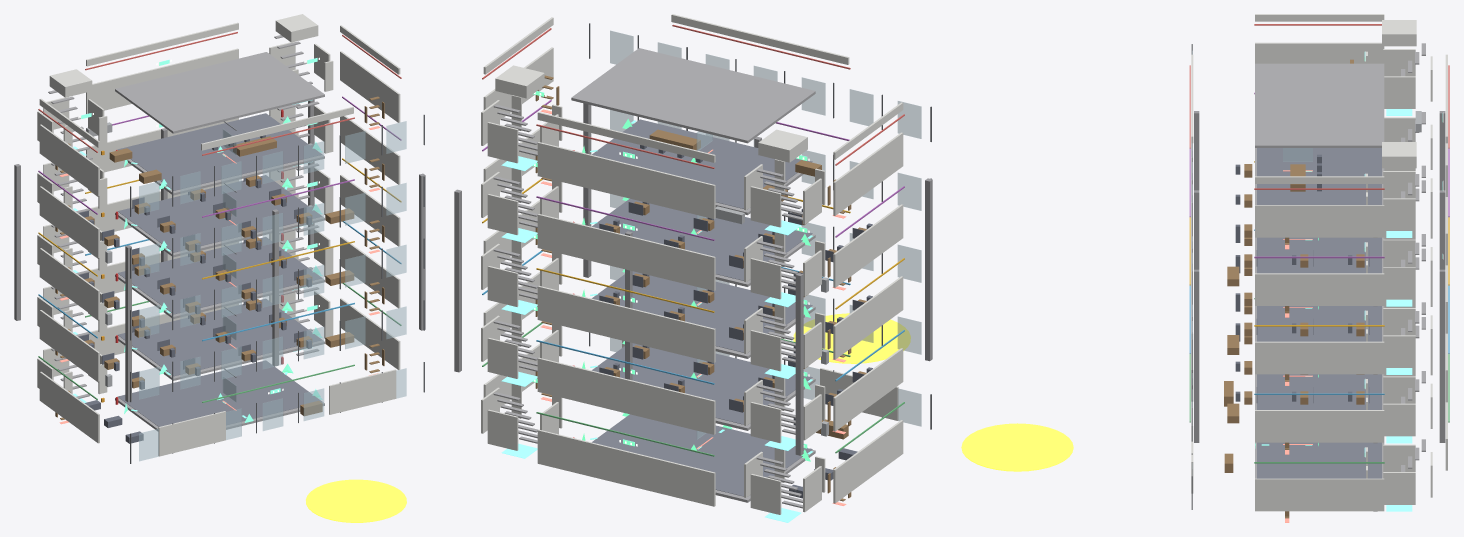
File: OfficeBuilding_MAP.glb
The picture shows the model from 3 angles, left to right: view 1: azimuth 30°, elevation 25°; view 2: azimuth 150°, elevation 25°; view 3: azimuth 270°, elevation 25°; orthographic projection. The views are drawn at different scales.
Parts seen in each view (by area): view 1: Struct_Slabs, Walls_F1, Walls_F5, Walls_F4, Walls_F3, Walls_F2, Design_F5, Design_F4, Design_F2, Design_F3, Design_Roof, Struct_Columns (+7 smaller); view 2: Struct_Slabs, Walls_F1, Walls_F5, Walls_F4, Walls_F3, Walls_F2, Design_Roof, Struct_Columns, Design_F5, Design_F4, Design_F2, Design_F3 (+7 smaller); view 3: Struct_Slabs, Walls_F5, Walls_F4, Walls_F1, Walls_F3, Walls_F2, Design_Roof, EVAC_AssemblyPoint, Struct_Columns, Furn_F4, Furn_F2, Furn_F3 (+6 smaller).
Boxes of the visible parts, x1=… form: Struct_Slabs: x1=115, y1=52, x2=324, y2=431; Walls_F1: x1=37, y1=289, x2=400, y2=456; Walls_F5: x1=37, y1=35, x2=400, y2=196; Walls_F4: x1=37, y1=103, x2=400, y2=257; Walls_F3: x1=37, y1=165, x2=400, y2=319; Walls_F2: x1=37, y1=227, x2=400, y2=381; Design_F5: x1=38, y1=32, x2=424, y2=216; Design_F4: x1=38, y1=96, x2=424, y2=278; Design_F2: x1=38, y1=221, x2=424, y2=402; Design_F3: x1=38, y1=158, x2=424, y2=340; Design_Roof: x1=39, y1=14, x2=400, y2=150; Struct_Columns: x1=14, y1=99, x2=425, y2=402; Struct_Slabs: x1=571, y1=48, x2=815, y2=502; Walls_F1: x1=481, y1=340, x2=903, y2=514; Walls_F5: x1=481, y1=47, x2=903, y2=227; Walls_F4: x1=481, y1=128, x2=903, y2=299; Walls_F3: x1=481, y1=200, x2=903, y2=371; Walls_F2: x1=481, y1=272, x2=903, y2=442; Design_Roof: x1=483, y1=14, x2=903, y2=162; Struct_Columns: x1=454, y1=103, x2=932, y2=455; Design_F5: x1=482, y1=23, x2=931, y2=168; Design_F4: x1=482, y1=100, x2=931, y2=240; Design_F2: x1=482, y1=251, x2=921, y2=384; Design_F3: x1=482, y1=179, x2=921, y2=312; Struct_Slabs: x1=1255, y1=63, x2=1384, y2=478; Walls_F5: x1=1255, y1=42, x2=1447, y2=237; Walls_F4: x1=1255, y1=112, x2=1447, y2=306; Walls_F1: x1=1191, y1=317, x2=1447, y2=511; Walls_F3: x1=1255, y1=180, x2=1447, y2=374; Walls_F2: x1=1255, y1=248, x2=1447, y2=443; Design_Roof: x1=1191, y1=14, x2=1447, y2=183; EVAC_AssemblyPoint: x1=961, y1=423, x2=1073, y2=471; Struct_Columns: x1=1194, y1=111, x2=1445, y2=442; Furn_F4: x1=1227, y1=164, x2=1369, y2=286; Furn_F2: x1=1227, y1=303, x2=1369, y2=423; Furn_F3: x1=1227, y1=235, x2=1369, y2=354.
Bounding box in the file's own units: 1805 × 1846 × 2262.
